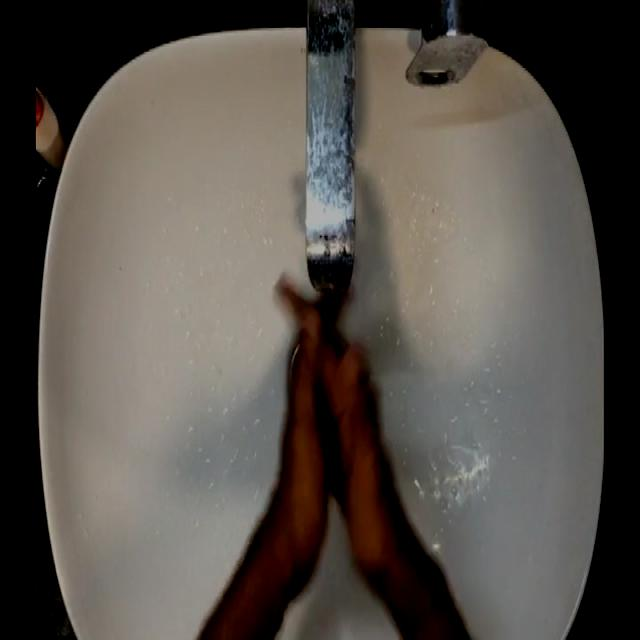step_3: (252, 238, 396, 567)
